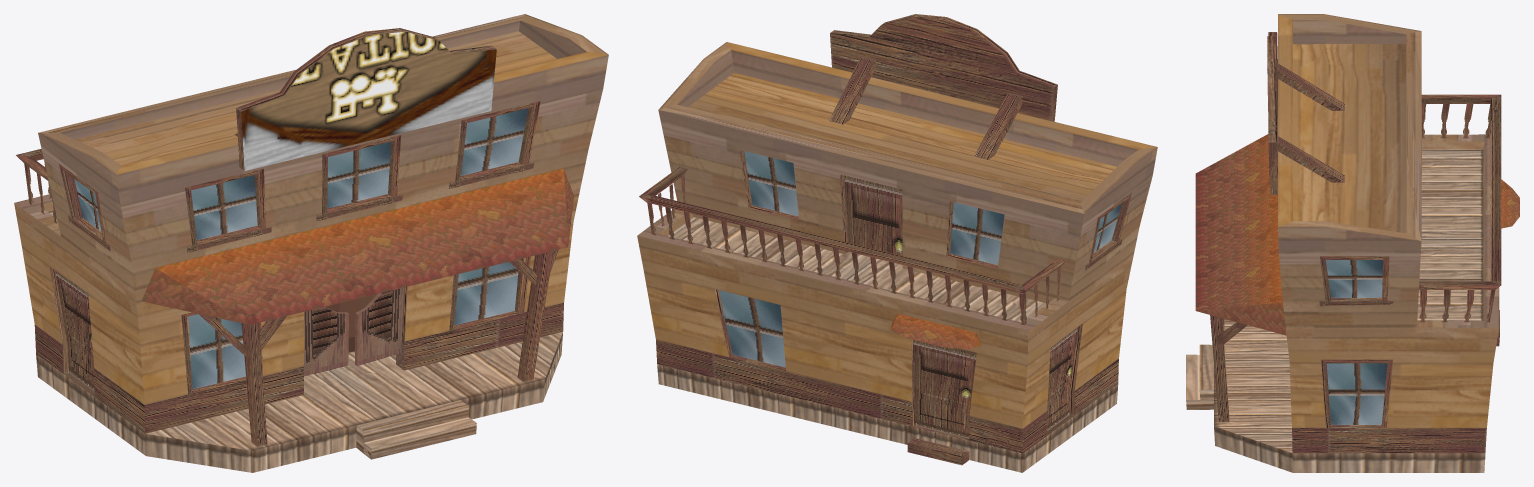
The picture shows the model from 3 angles, left to right: view 1: azimuth 30°, elevation 25°; view 2: azimuth 150°, elevation 25°; view 3: azimuth 270°, elevation 25°; orthographic projection. The views are drawn at different scales.
Visible parts, largest first — view 1: walls, roofs, decks, woods, sign, windows, int_swingdoorR, doors, int_swingdoorL, int_inside; view 2: walls, woods, decks, doors, windows, railing, roofs; view 3: walls, decks, woods, roofs, windows, railing.
Part boxes in pixels (x1=…): walls: x1=14, y1=14, x2=608, y2=404; roofs: x1=141, y1=168, x2=573, y2=324; decks: x1=36, y1=211, x2=562, y2=472; woods: x1=16, y1=28, x2=563, y2=446; sign: x1=241, y1=31, x2=496, y2=170; windows: x1=74, y1=108, x2=528, y2=389; int_swingdoorR: x1=355, y1=287, x2=403, y2=365; doors: x1=55, y1=270, x2=94, y2=391; int_swingdoorL: x1=304, y1=307, x2=348, y2=376; int_inside: x1=325, y1=294, x2=396, y2=360; walls: x1=637, y1=42, x2=1157, y2=428; woods: x1=639, y1=14, x2=1131, y2=465; decks: x1=657, y1=217, x2=1118, y2=472; doors: x1=844, y1=175, x2=1077, y2=438; windows: x1=718, y1=151, x2=1121, y2=367; railing: x1=647, y1=175, x2=1060, y2=325; roofs: x1=891, y1=314, x2=981, y2=349; walls: x1=1278, y1=14, x2=1499, y2=427; decks: x1=1186, y1=149, x2=1485, y2=472; woods: x1=1210, y1=32, x2=1501, y2=453; roofs: x1=1195, y1=134, x2=1519, y2=335; windows: x1=1326, y1=260, x2=1387, y2=424; railing: x1=1419, y1=104, x2=1495, y2=322.
Bounding box in the file's own units: 609 × 449 × 403.
Materials: 11 (11 with a texture image).
